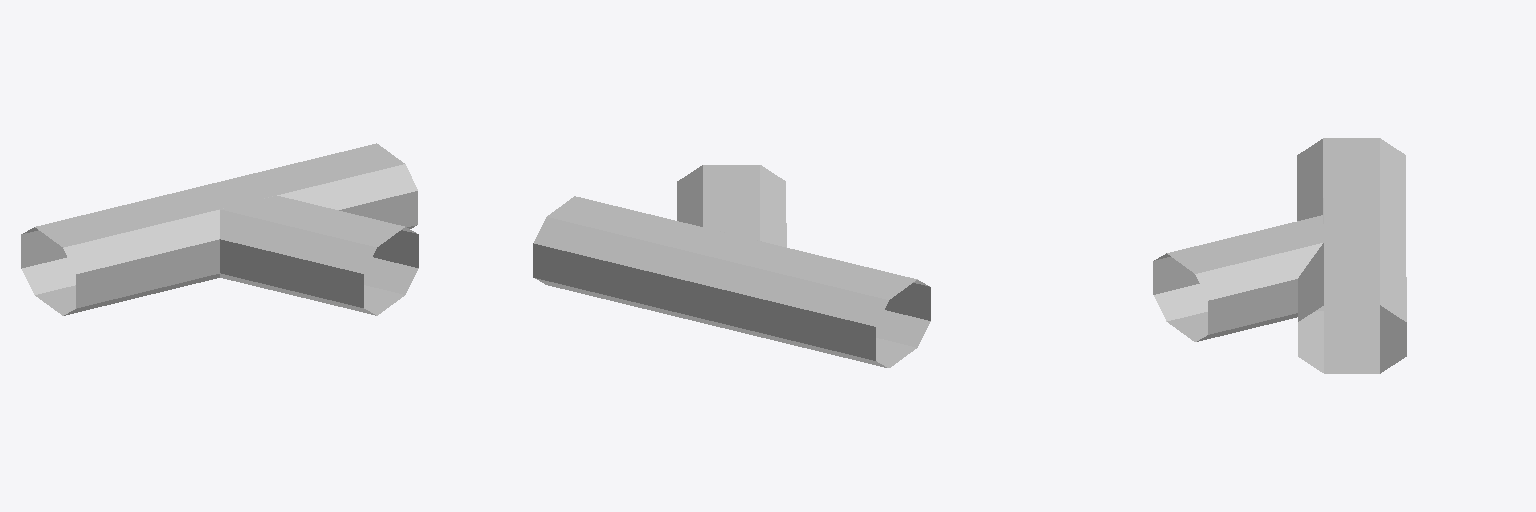
The model's file is Block32.obj.
3 views of the same model, side by side, from view 1: azimuth 30°, elevation 25°; view 2: azimuth 150°, elevation 25°; view 3: azimuth 270°, elevation 25° (orthographic).
Parts seen in each view (by area): view 1: Block32.001_Cylinder.030; view 2: Block32.001_Cylinder.030; view 3: Block32.001_Cylinder.030.
Boxes of the visible parts, <box> form: Block32.001_Cylinder.030: <box>21,143,418,315</box>; Block32.001_Cylinder.030: <box>533,165,930,367</box>; Block32.001_Cylinder.030: <box>1153,138,1406,373</box>.
Bounding box in the file's own units: 1.73 × 0.3302 × 1.11.